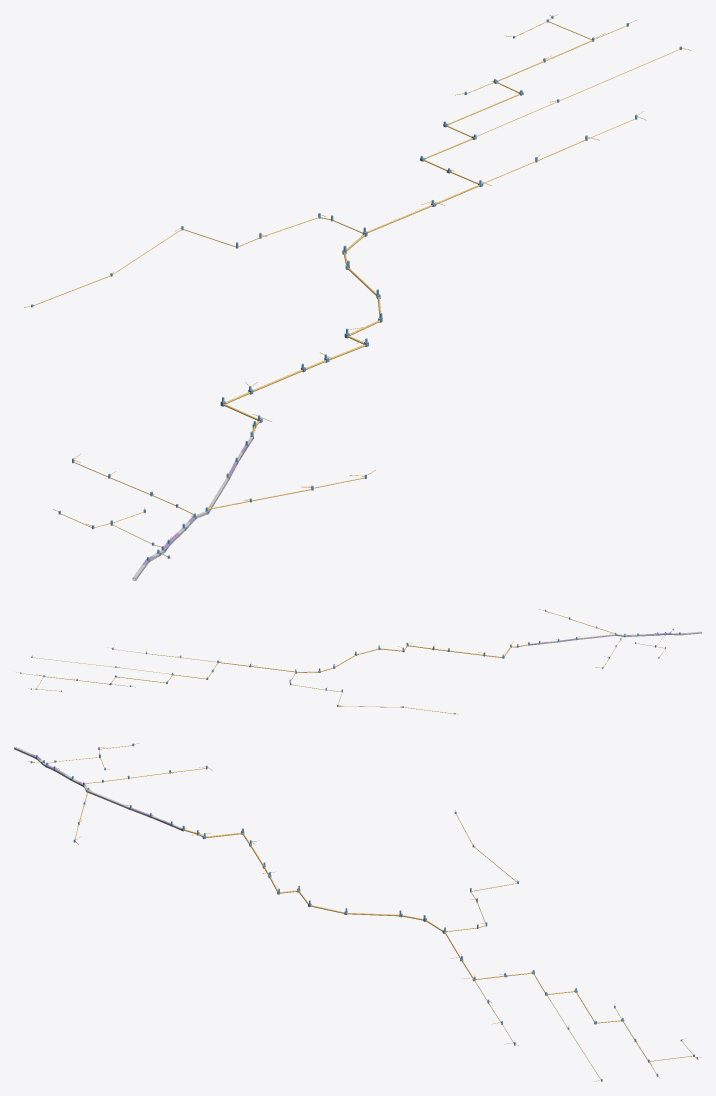
Rendered from 500125-CSSP001-780-XX-MD-ST-000202.glb.
3 views of the same model, one above another, from view 1: azimuth 30°, elevation 25°; view 2: azimuth 150°, elevation 25°; view 3: azimuth 270°, elevation 25° (orthographic). The views are drawn at different scales.
Size of the model in its own units: 925 by 12.37 by 784.
